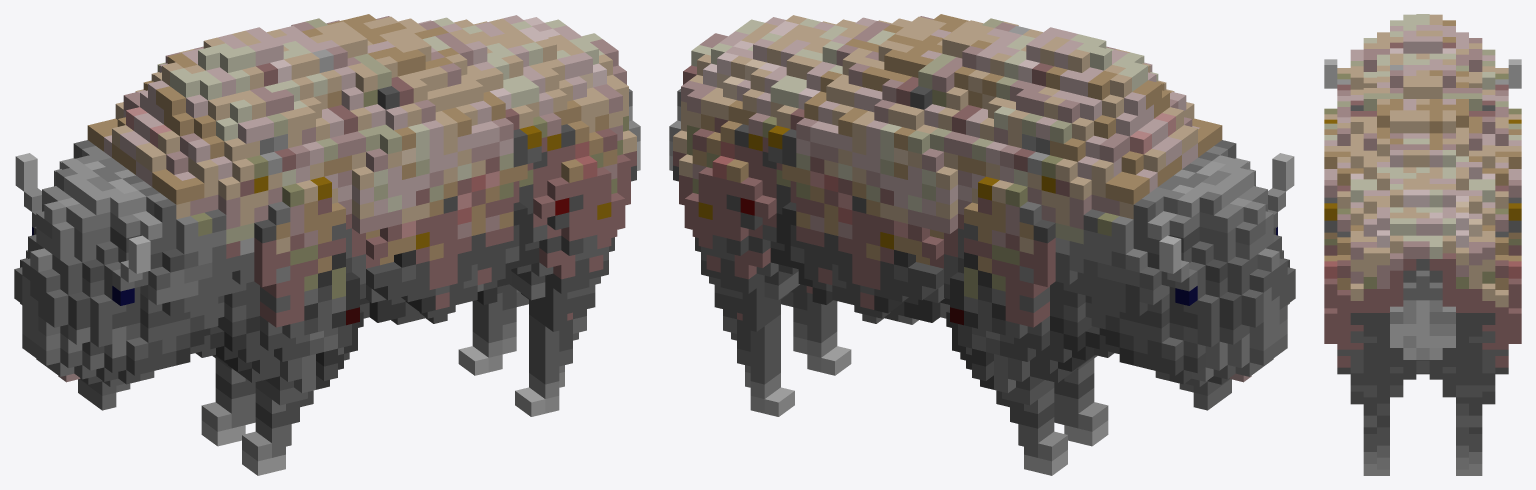
3 views of the same model, side by side, from view 1: azimuth 30°, elevation 25°; view 2: azimuth 150°, elevation 25°; view 3: azimuth 270°, elevation 25° (orthographic). The views are drawn at different scales.
Visible parts, largest first — view 1: Geode; view 2: Geode; view 3: Geode.
Boxes of the visible parts, box(x1,y1,x2,y2) form: Geode: box(14, 14, 640, 475); Geode: box(669, 14, 1295, 475); Geode: box(1324, 14, 1521, 475).
Size of the model in its own units: 42 by 28 by 15.
